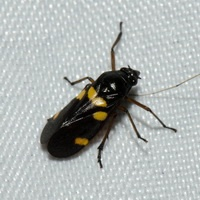insect: (40, 22, 176, 167)
